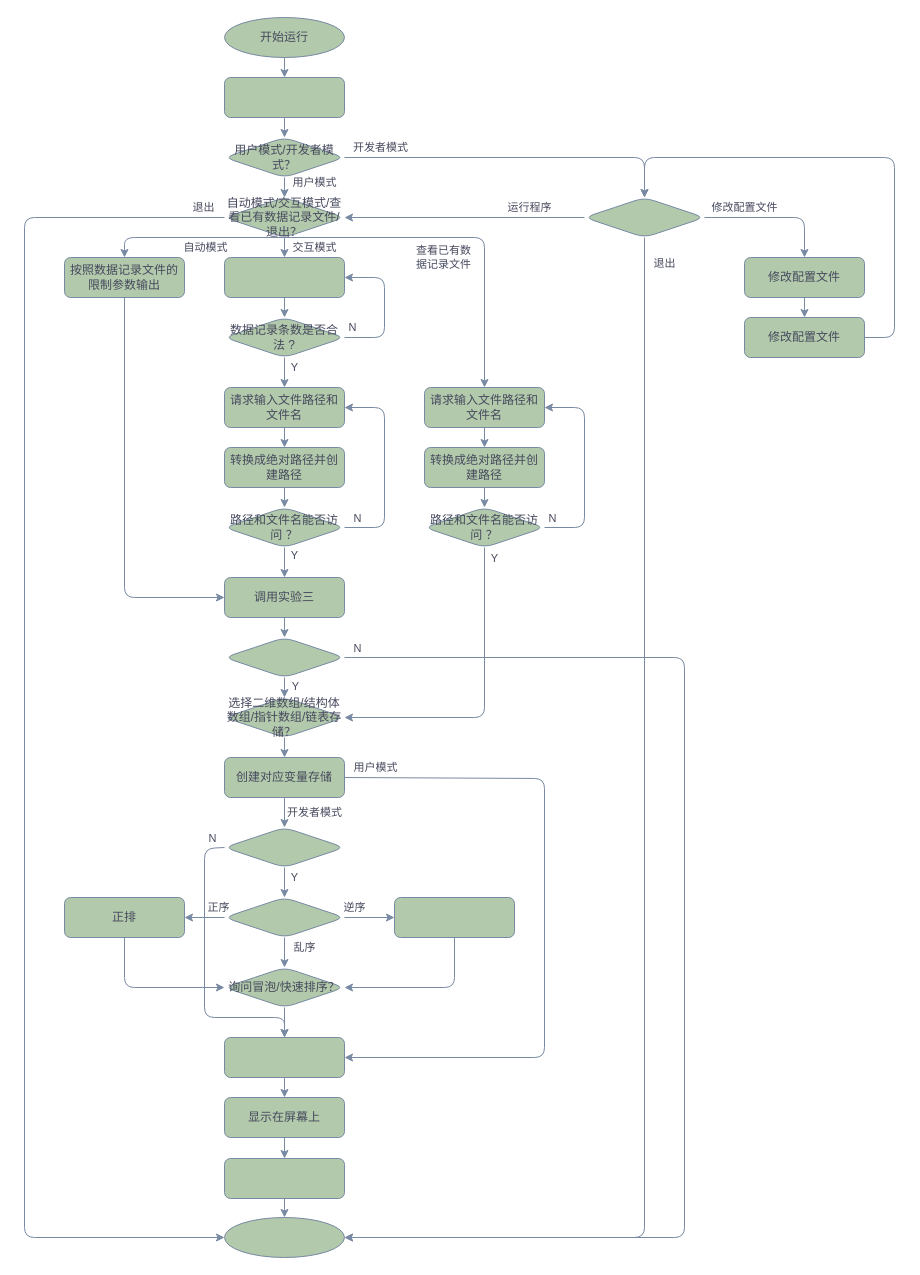
Some shapes in this 920 by 1275 pixel diagram are drawn without their labels. Each missing label, with the centre of its shape:
修改配置文件/运行程序/退出？: point (644, 217)
开发者模式将排序的时间和方式计入日志: point (284, 1178)
是否查看生成的数据记录文件？: point (284, 657)
是否正序/逆序/乱序？: point (284, 917)
是否计时？: point (284, 847)
结束程序: point (284, 1237)
自检: point (284, 97)
请求输入数据记录条数: point (284, 277)
逆排: point (454, 917)
（计时）排序: point (284, 1057)
